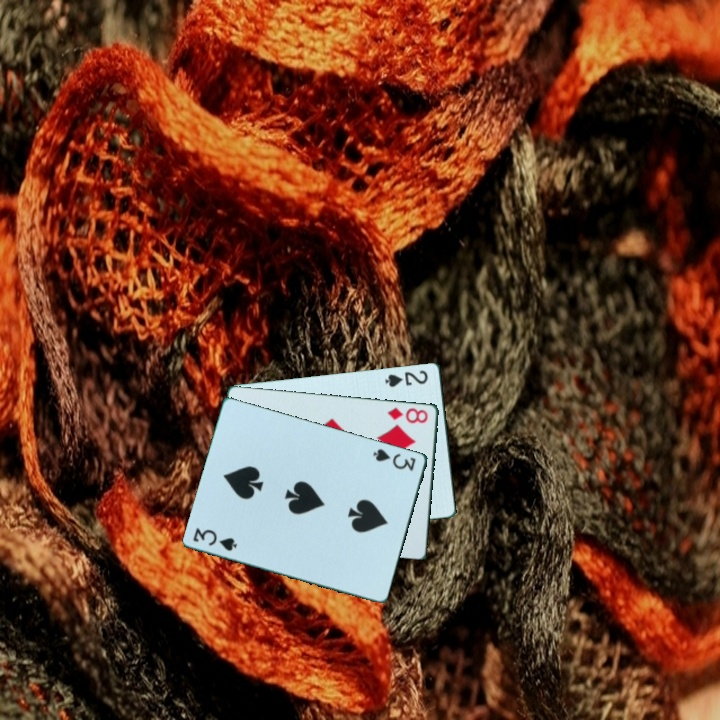2s: (382, 366, 431, 390)
3s: (190, 524, 240, 554), (370, 445, 419, 474)
8d: (384, 404, 431, 426)
